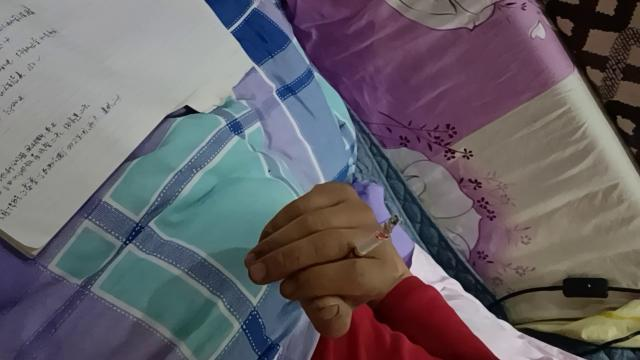Cigarette: (342, 215, 400, 265)
